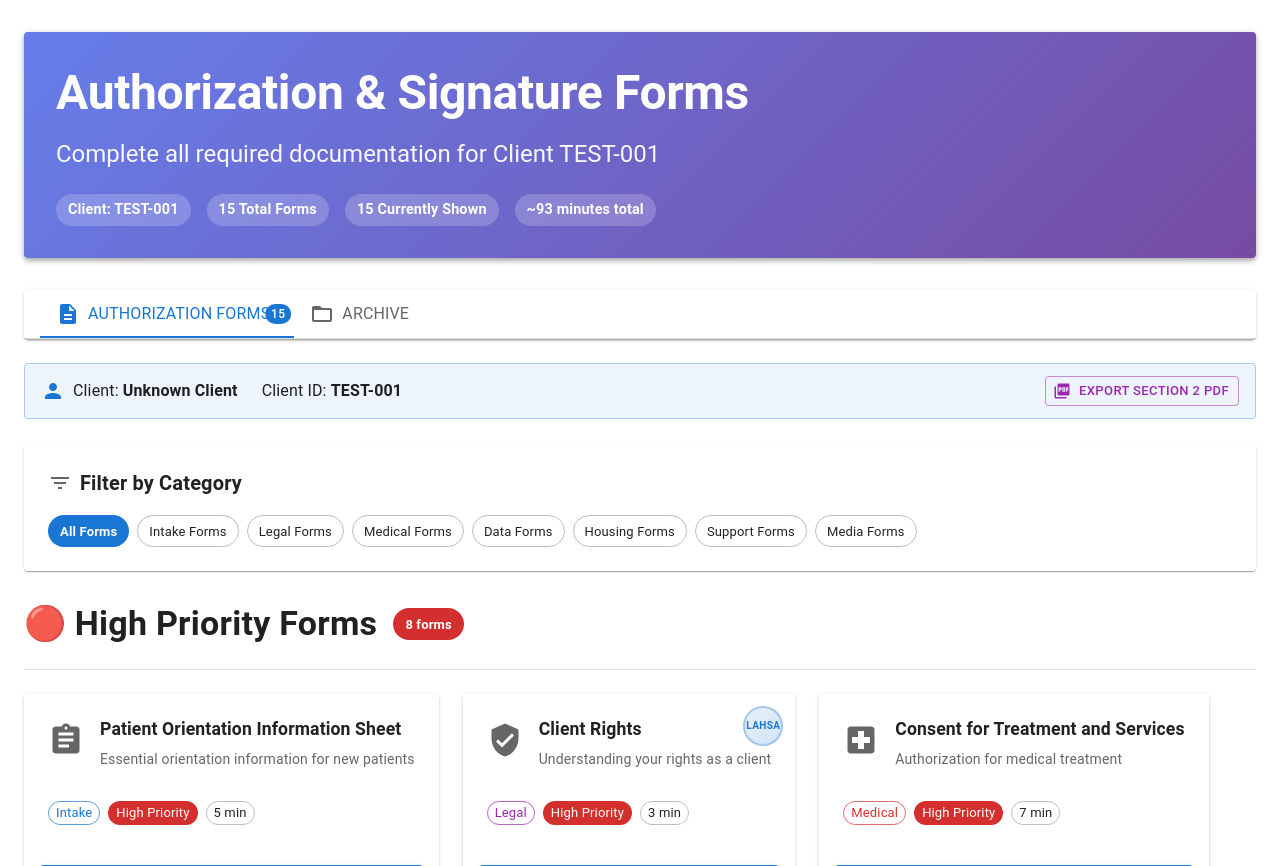
AuthSig - Authorization Forms Container › Category Filtering › should update form count when filtering
Expected: the text "15 Currently Shown" is shown, [357,201,487,218]
Click the button "Legal Forms" at [295, 531], box [247,515,344,547]
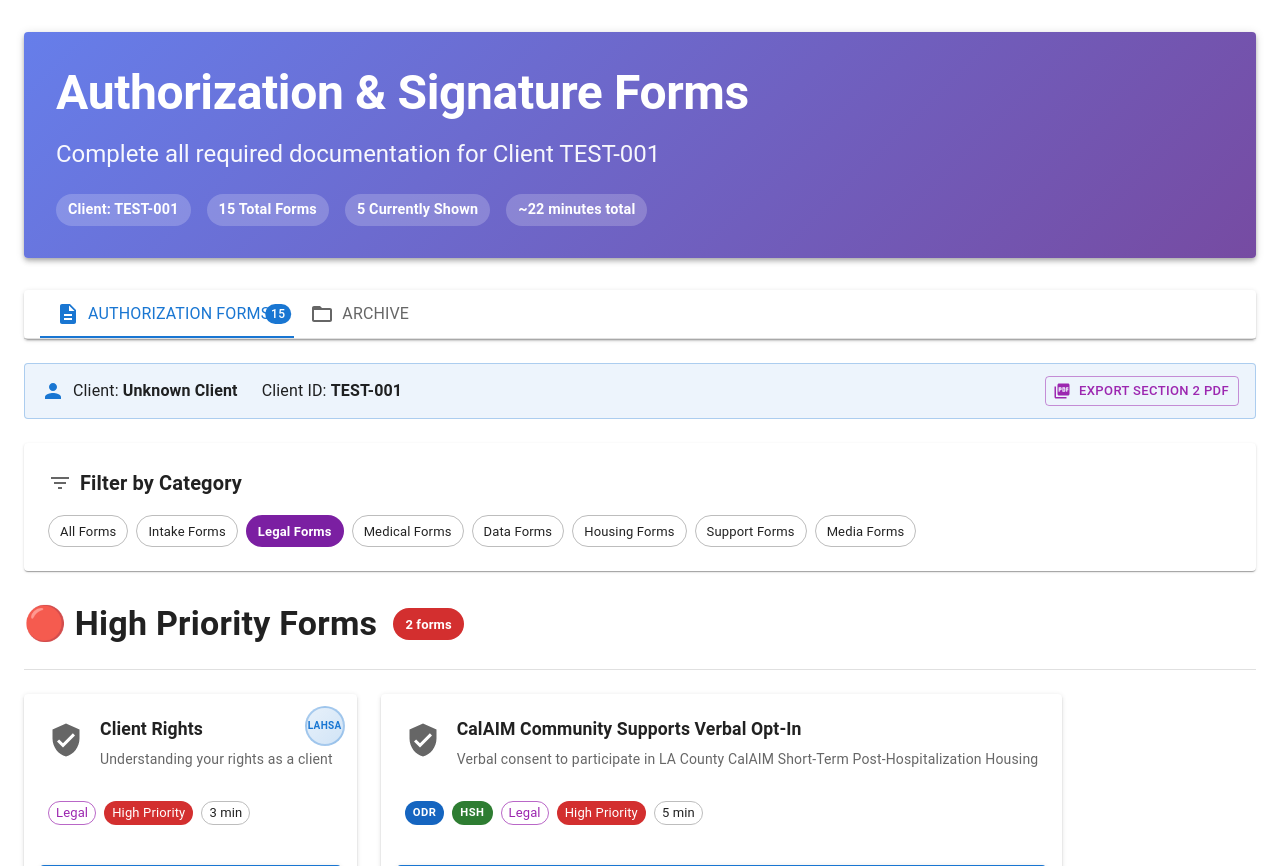
Expected: the text "15 Currently Shown" is gone
